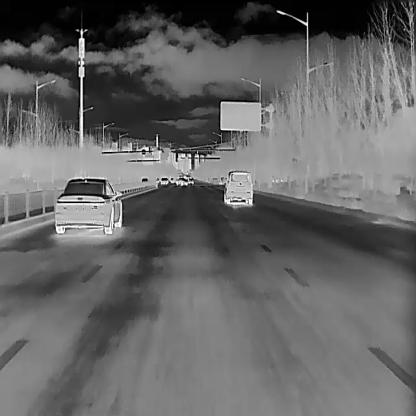car: (54, 176, 122, 234), (224, 170, 252, 205), (174, 176, 187, 184), (159, 176, 168, 184), (187, 176, 193, 184), (169, 175, 174, 183), (140, 176, 148, 181)
